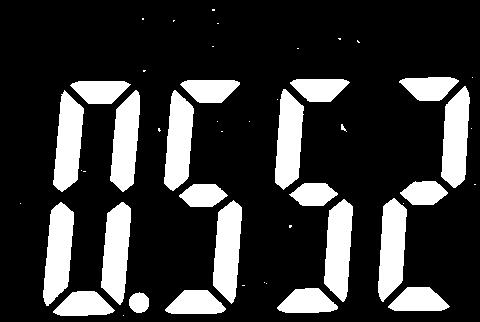0: (41, 72, 143, 317)
2: (377, 73, 472, 312)
5: (268, 74, 358, 317), (162, 73, 251, 317)
dot: (127, 289, 152, 314)
